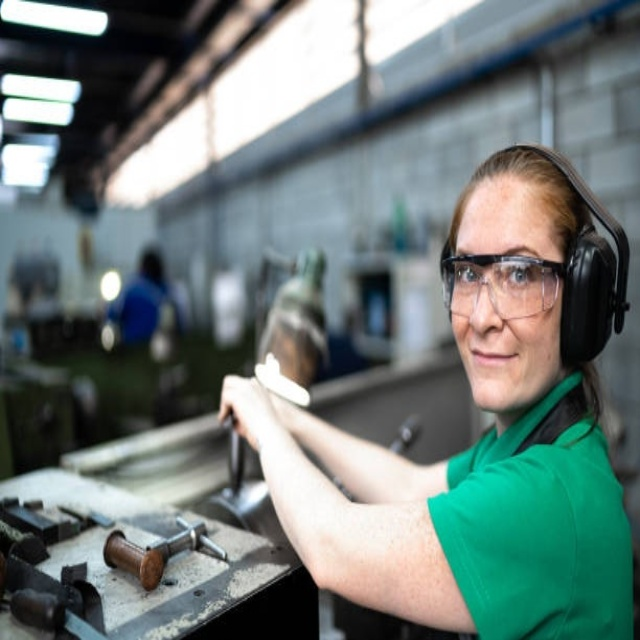Gafas: (441, 255, 564, 321)
Sin_guantes: (216, 363, 282, 454)
Sin_mascara: (464, 333, 528, 404)
